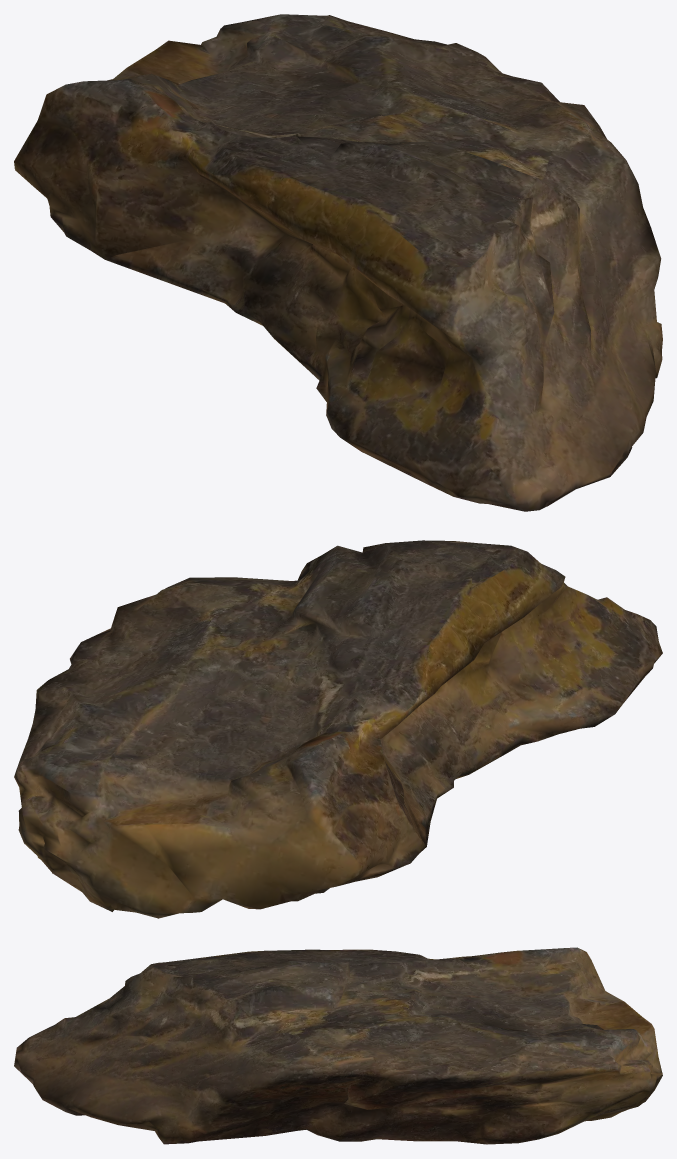
The model's file is rock_09.glb.
3 renders of one model, top to bottom at view 1: azimuth 30°, elevation 25°; view 2: azimuth 150°, elevation 25°; view 3: azimuth 270°, elevation 25°, orthographic. The views are drawn at different scales.
Parts seen in each view (by area): view 1: rock_09_LOD0; view 2: rock_09_LOD0; view 3: rock_09_LOD0.
Part boxes in pixels (bbox=[...]): rock_09_LOD0: bbox=[14, 14, 662, 511]; rock_09_LOD0: bbox=[14, 540, 662, 918]; rock_09_LOD0: bbox=[14, 947, 662, 1144].
Size of the model in its own units: 0.0739 by 0.0326 by 0.1446.
1 material, 1 textured.
